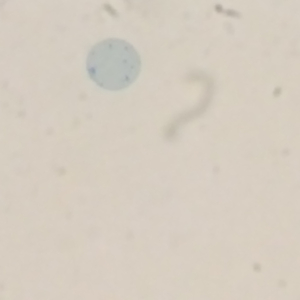punctate reticulocyte: (84, 37, 143, 92)
